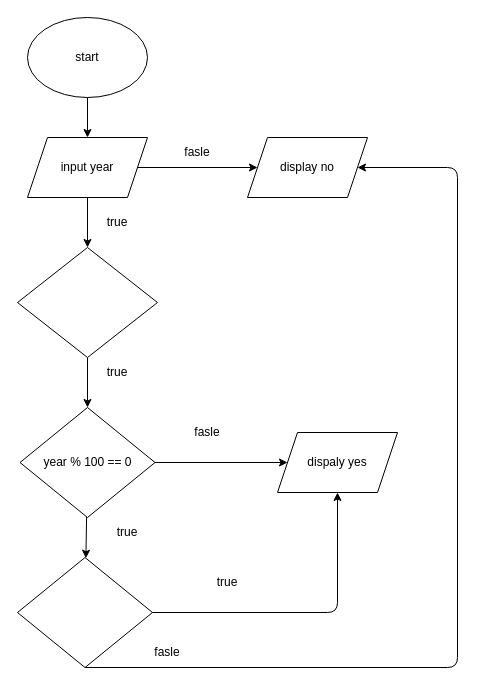
Image size: 483x693. Some labels were removed from this diagram. Here are the shapes that lost their labels. From the top down, the box of each, then its label:
(16, 246, 158, 358): year %4 == 0
(16, 556, 152, 668): year % 400 == 0
